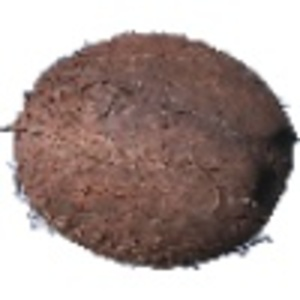coco: (1, 32, 300, 271)
